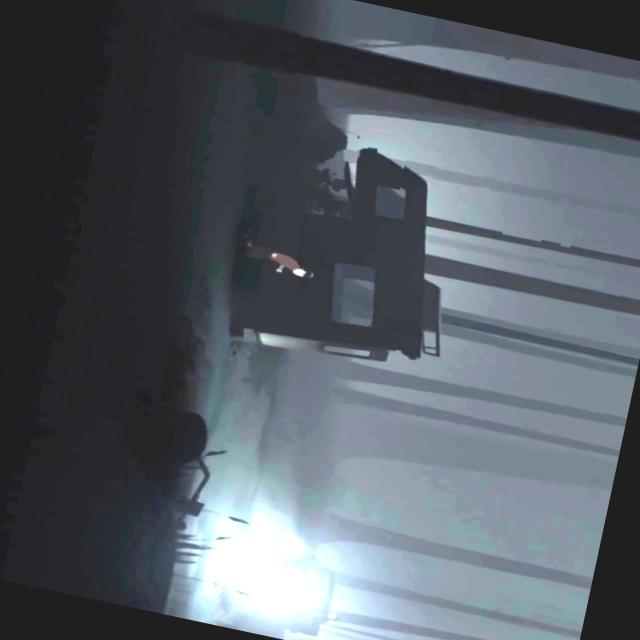boy: (231, 233, 317, 280)
